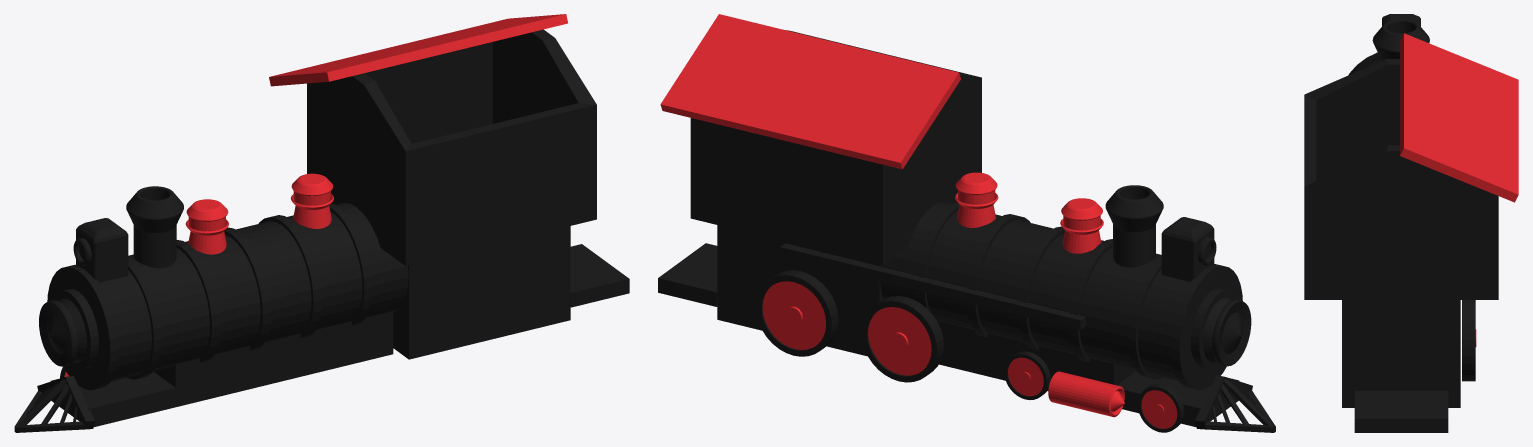
The model's file is train.glb.
3 views of the same model, side by side, from view 1: azimuth 30°, elevation 25°; view 2: azimuth 150°, elevation 25°; view 3: azimuth 270°, elevation 25° (orthographic).
Parts seen in each view (by area): view 1: Cabin, Cylinder, Cube.003, Cube.011, Cylinder.001, Cube.004, Cube.005, Cube.002, Cylinder.004, Cylinder.005; view 2: Cabin, Cylinder, Cube.011, Cylinder.002, Cube.003, Cube.006, Cylinder.001, Cube.004, Cube.002, Cube.005, Cylinder.003, Cylinder.004 (+1 smaller); view 3: Cabin, Cube.011, Cube.002, Cylinder.001, Cylinder.002, Cube.004, Cylinder.
Boxes of the visible parts, x1,y1,x2,y2 form: Cabin: (307, 29, 596, 359); Cylinder: (39, 203, 408, 390); Cube.003: (50, 311, 393, 426); Cube.011: (269, 14, 567, 86); Cylinder.001: (126, 186, 183, 268); Cube.004: (73, 218, 128, 282); Cube.005: (14, 375, 94, 432); Cube.002: (570, 244, 629, 307); Cylinder.004: (290, 173, 333, 228); Cylinder.005: (185, 199, 228, 254); Cabin: (690, 30, 981, 356); Cylinder: (880, 202, 1251, 389); Cube.011: (660, 14, 960, 169); Cylinder.002: (756, 270, 1184, 432); Cube.003: (937, 321, 1239, 426); Cube.006: (780, 243, 1085, 329); Cylinder.001: (1105, 185, 1163, 267); Cube.004: (1161, 217, 1216, 281); Cube.002: (658, 243, 717, 306); Cube.005: (1195, 375, 1275, 432); Cylinder.003: (1048, 371, 1124, 417); Cylinder.004: (955, 172, 998, 227); Cabin: (1304, 59, 1498, 407); Cube.011: (1400, 33, 1518, 202); Cube.002: (1354, 390, 1448, 432); Cylinder.001: (1372, 19, 1429, 61); Cylinder.002: (1462, 300, 1476, 381); Cube.004: (1382, 14, 1420, 26); Cylinder: (1348, 52, 1380, 75).
Bounding box in the file's own units: 11.5 × 5.33 × 3.67.
